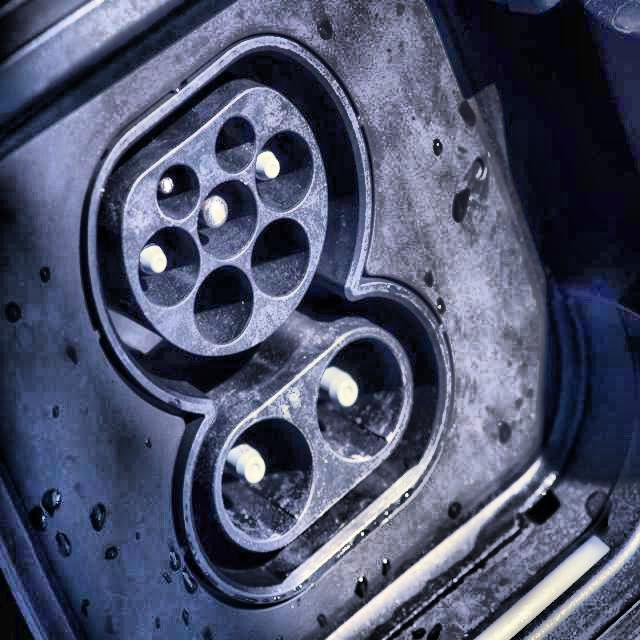inlet: (122, 86, 328, 356)
inlet-above-left: (155, 164, 200, 220)
inlet-above-right: (215, 116, 255, 173)
inlet-below-left: (193, 265, 255, 347)
inlet-below-right: (251, 217, 312, 301)
inlet-center: (197, 179, 259, 260)
inlet-center-left: (137, 227, 201, 309)
inlet-center-right: (255, 130, 314, 212)
